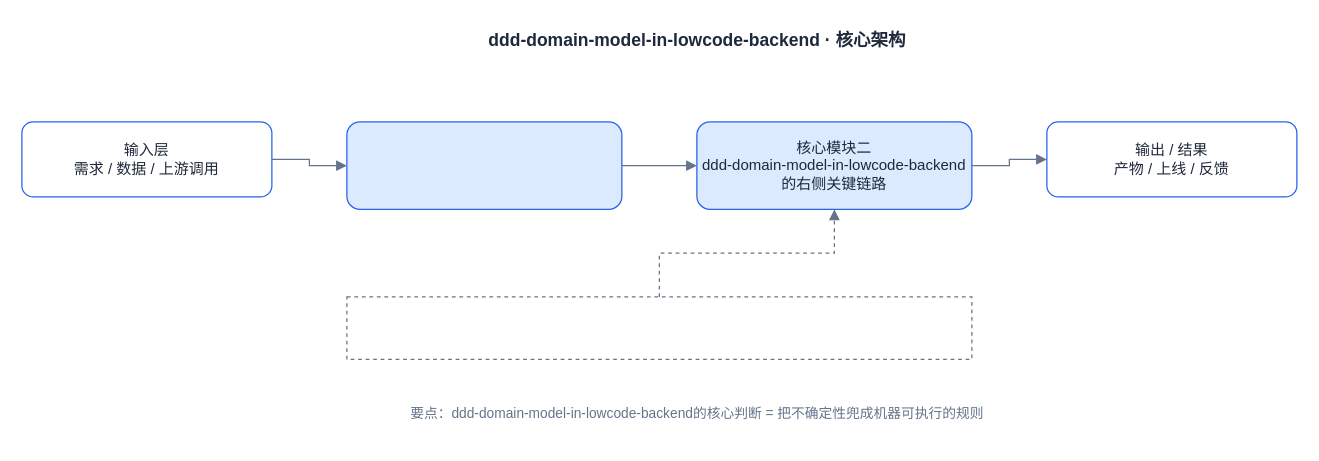
Some shapes in this 1319 by 461 pixel diagram are drawn without their labels. Here are the shapes that lost their labels. From the top down, the box of each, then its label:
(346, 121, 622, 209): 核心模块一 ddd-domain-model-in-lowcode-backend的左侧关键链路
(346, 296, 972, 359): 兜底层 质量 / 安全 / 监控 / 评审
